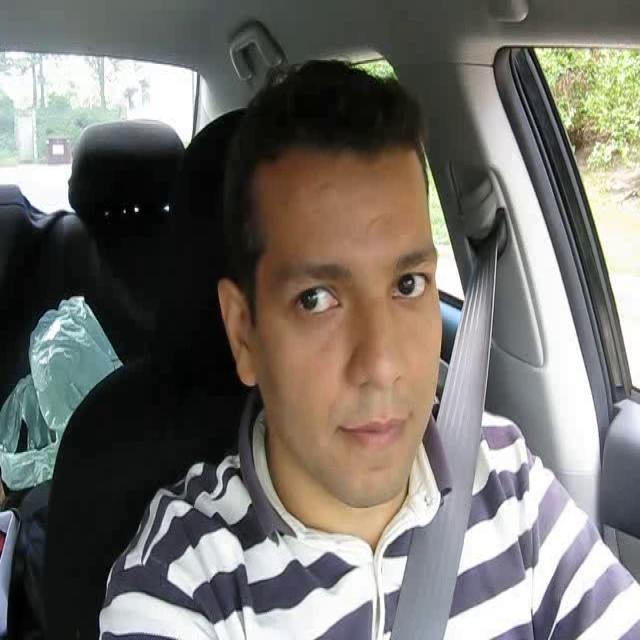close: (337, 414, 420, 456)
